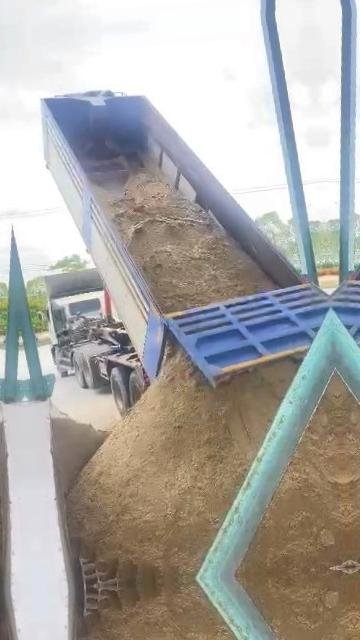sand: (69, 355, 297, 582), (95, 171, 274, 311), (241, 381, 350, 573), (52, 407, 105, 496)
